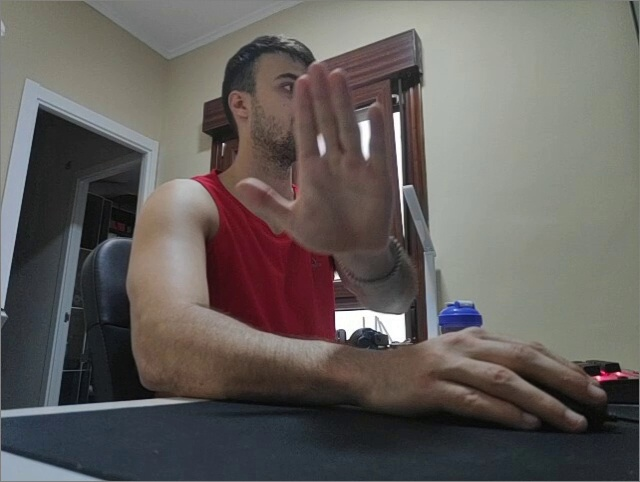Palm: (230, 63, 395, 260)
